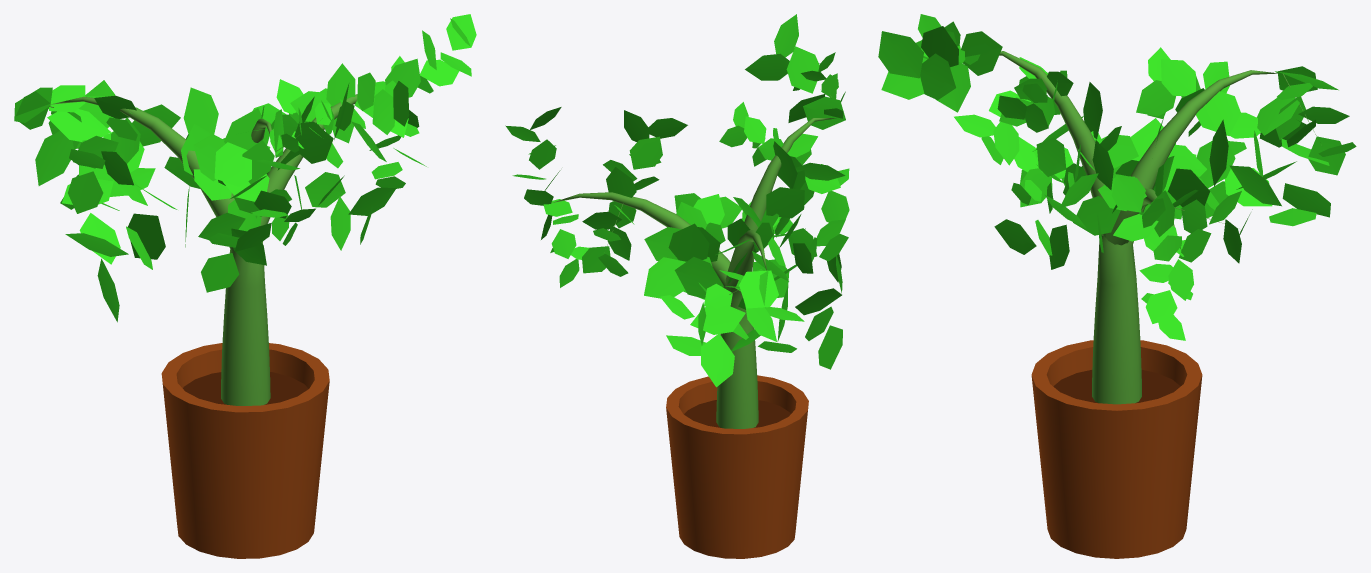
The model's file is plant.fbx.
3 renders of one model, left to right at view 1: azimuth 30°, elevation 25°; view 2: azimuth 150°, elevation 25°; view 3: azimuth 270°, elevation 25°, orthographic. The views are drawn at different scales.
Parts seen in each view (by area): view 1: Plane.002, Cylinder; view 2: Plane.002, Cylinder; view 3: Plane.002, Cylinder.
Part boxes in pixels (left/top/right/bottom): Plane.002: left=14, top=14, right=476, bottom=405; Cylinder: left=161, top=343, right=329, bottom=558; Plane.002: left=505, top=14, right=849, bottom=428; Cylinder: left=666, top=375, right=808, bottom=558; Plane.002: left=878, top=14, right=1356, bottom=404; Cylinder: left=1031, top=340, right=1202, bottom=558.
Bounding box in the file's own units: 317 × 389 × 323.
